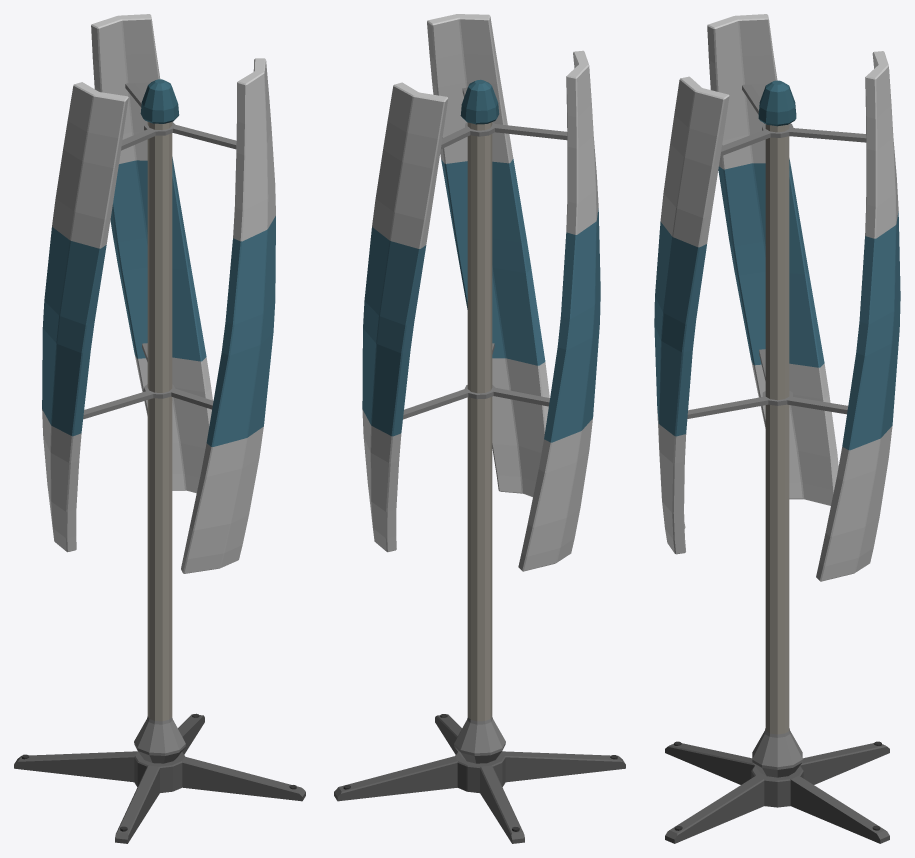
The model's file is model_wind_turbine.fbx.
3 renders of one model, left to right at view 1: azimuth 30°, elevation 25°; view 2: azimuth 150°, elevation 25°; view 3: azimuth 270°, elevation 25°, orthographic.
Visible parts, largest first — view 1: blades, model_wind_turbine; view 2: blades, model_wind_turbine; view 3: blades, model_wind_turbine.
Part boxes in pixels (x1,y1,x2,y2): blades: (42, 14, 275, 573); model_wind_turbine: (14, 79, 305, 843); blades: (362, 14, 600, 571); model_wind_turbine: (334, 79, 625, 843); blades: (654, 14, 900, 581); model_wind_turbine: (665, 80, 889, 843).
Size of the model in its own units: 180 by 612 by 185.
Materials: 1 (1 with a texture image).
